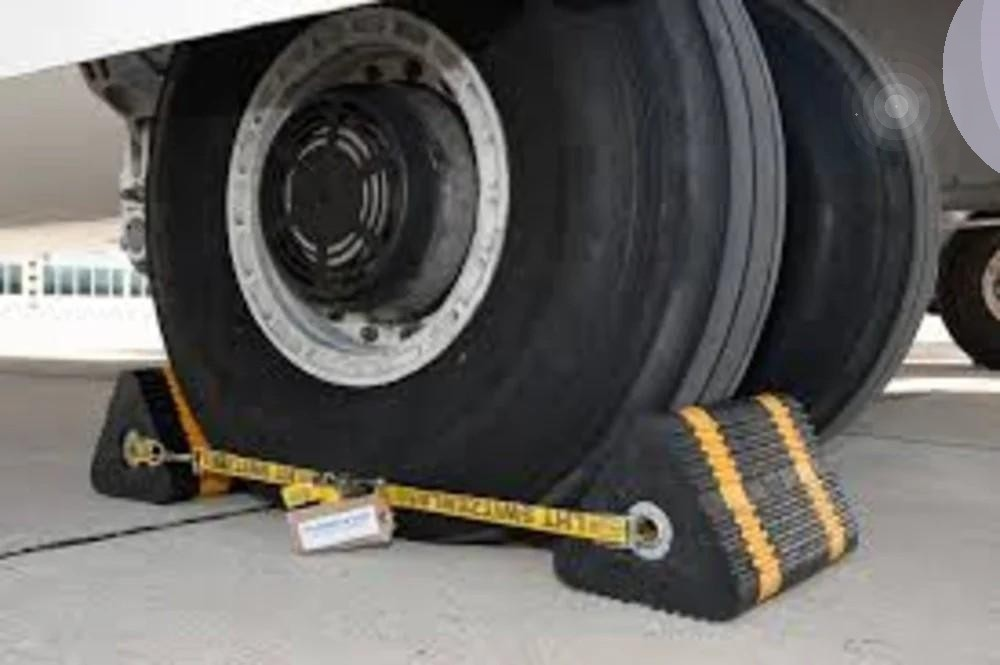chock: (546, 392, 863, 622), (87, 364, 208, 502)
wheel: (118, 2, 808, 515), (715, 0, 935, 440), (936, 226, 1000, 367)
